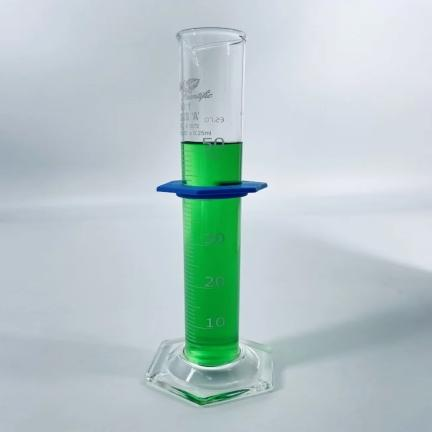container: (181, 28, 247, 365)
fluid: (182, 142, 243, 365)
fluid-surface: (183, 140, 242, 144)
